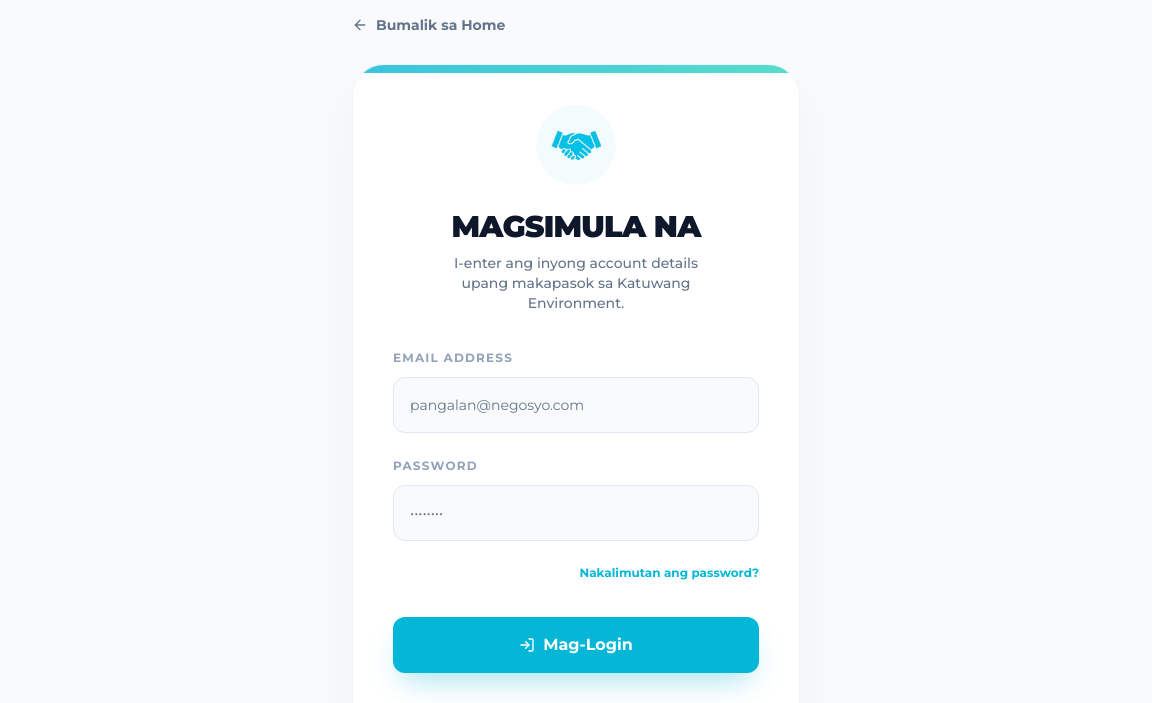
Test case: Staff Access Security Phase 1 — UI regression only › preserves the owner login page and opens the existing Cashier PIN form
Type "owner@example.com" into the field named "email".
click(576, 405); type("owner@example.com")  # box [393,377,759,433]
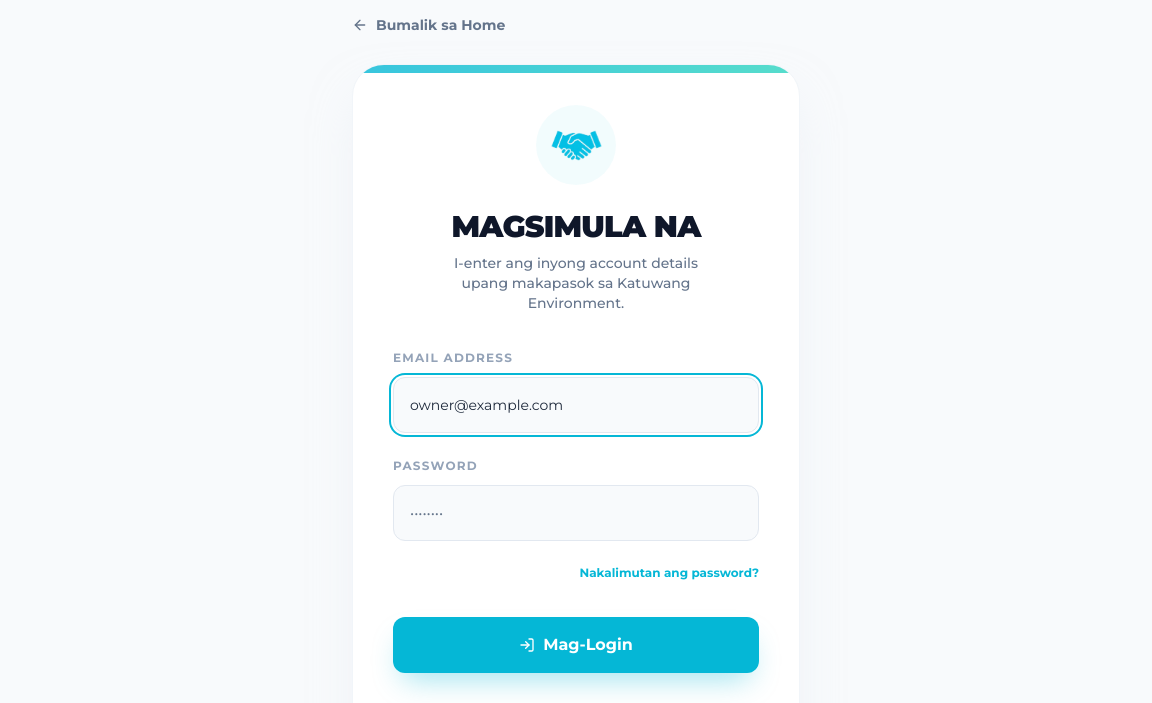
Clear the field named "email" at (576, 405), box [393,377,759,433]
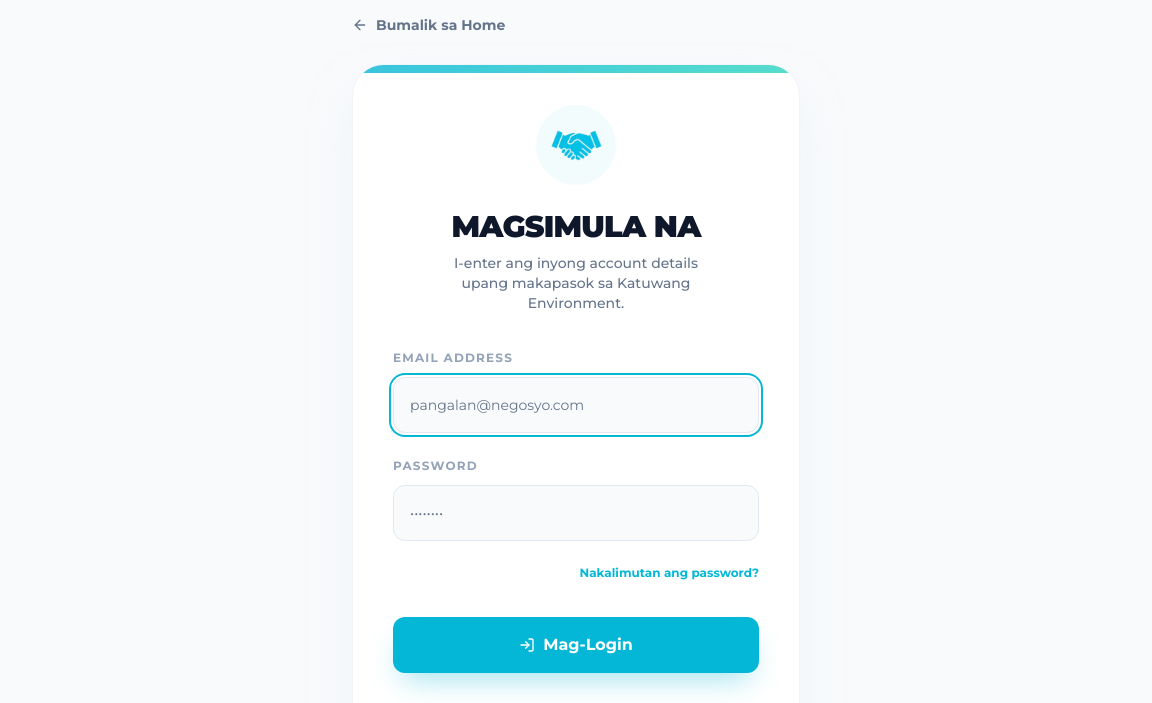
Scroll
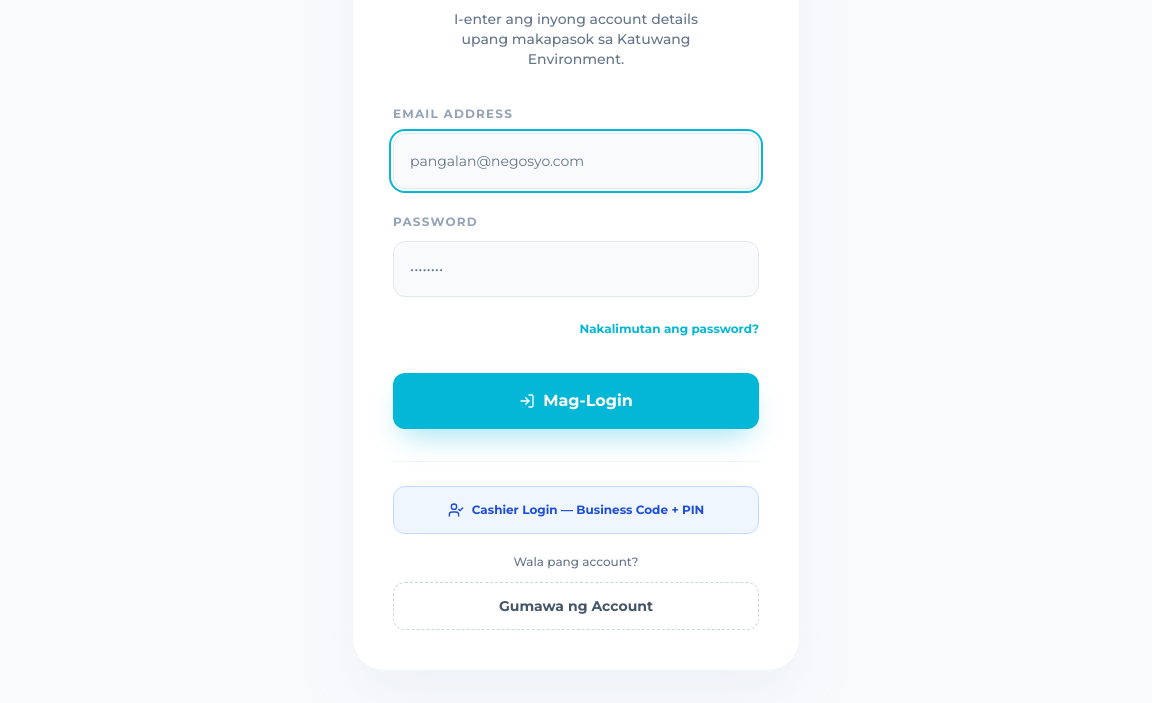
Click the button with test id "cashier-login-toggle-btn".
click(576, 510)  # box [393,486,759,534]
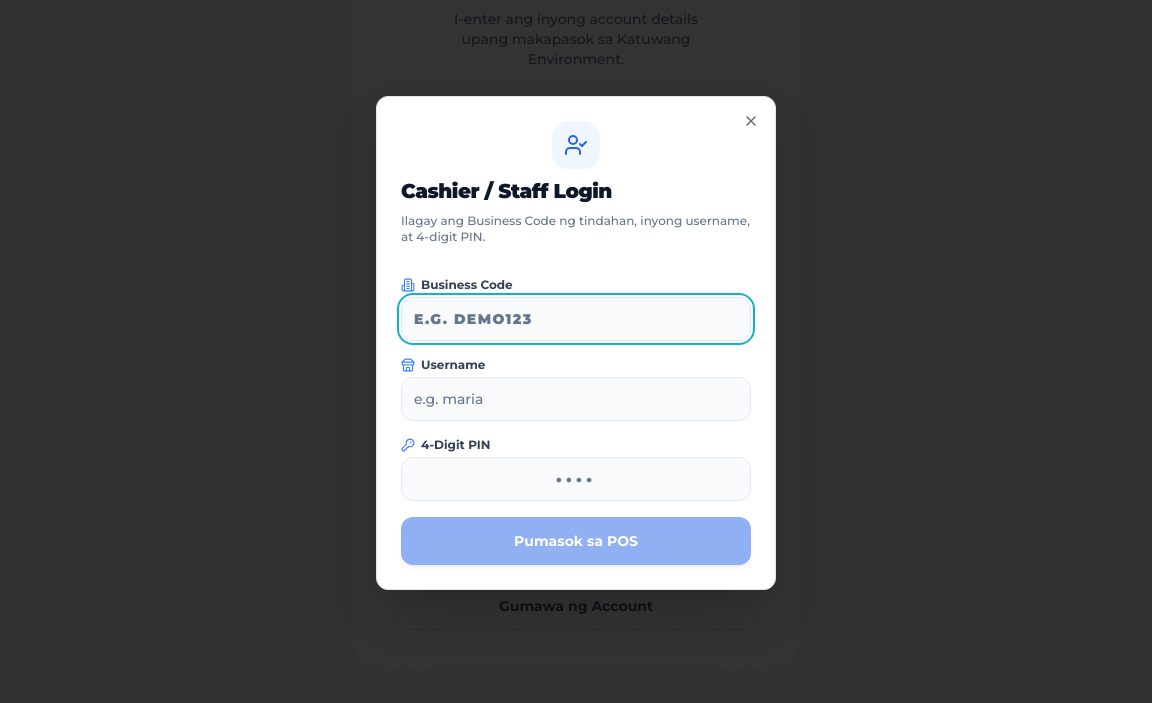
expect the heading "Cashier / Staff Login" is shown: met, box [401,179,612,203]
expect the field with id "staff-biz-code" is shown: met, box [401,297,751,341]
expect the field with id "staff-username" is shown: met, box [401,377,751,421]
